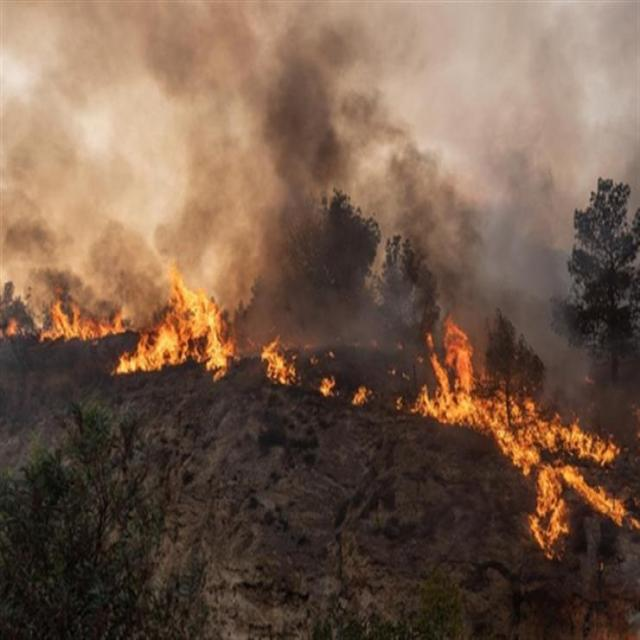Fire: (7, 277, 640, 572)
